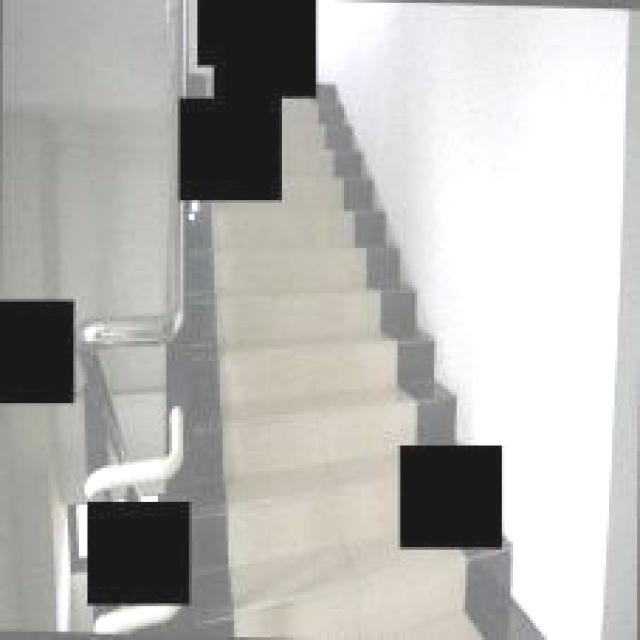upstair: (190, 218, 424, 432)
